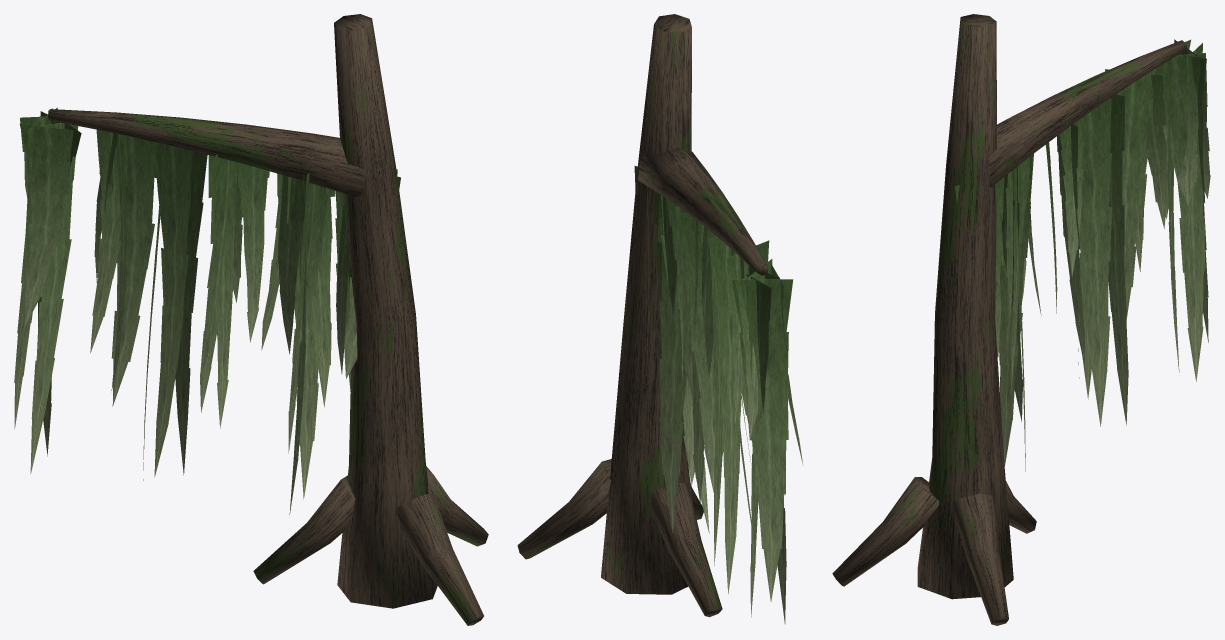
The model's file is Moss_Drape.glb.
3 renders of one model, left to right at view 1: azimuth 30°, elevation 25°; view 2: azimuth 150°, elevation 25°; view 3: azimuth 270°, elevation 25°, orthographic. The views are drawn at different scales.
Visible parts, largest first — view 1: Moss_Drape__Moss, Moss_Drape__Bark; view 2: Moss_Drape__Bark, Moss_Drape__Moss; view 3: Moss_Drape__Bark, Moss_Drape__Moss.
Part boxes in pixels (x1,y1,x2,y2): Moss_Drape__Moss: (14,107,400,514); Moss_Drape__Bark: (48,14,488,625); Moss_Drape__Bark: (517,14,768,617); Moss_Drape__Moss: (634,166,803,624); Moss_Drape__Bark: (832,14,1186,625); Moss_Drape__Moss: (955,39,1210,471).
Size of the model in its own units: 13.11 by 19.1 by 11.96.
Materials: 2 (2 with a texture image).
